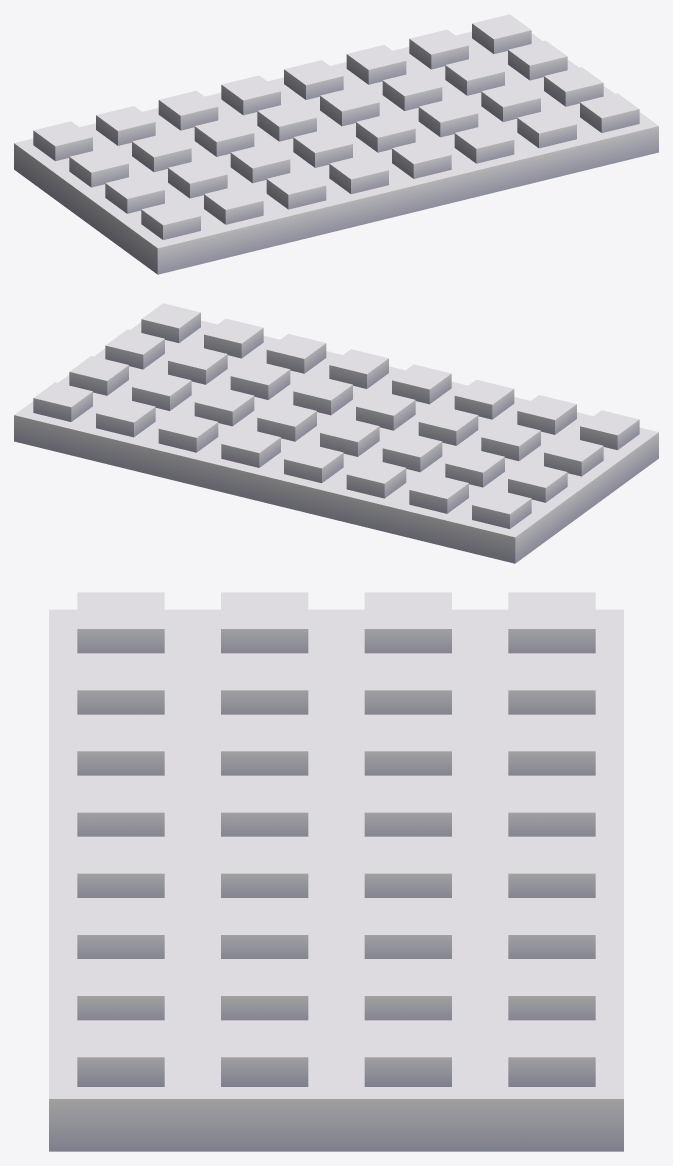
File: kenney-brick-square-lq-plate-4-x-8.glb
The picture shows the model from 3 angles, top to bottom: view 1: azimuth 30°, elevation 25°; view 2: azimuth 150°, elevation 25°; view 3: azimuth 270°, elevation 25°; orthographic projection. The views are drawn at different scales.
Visible parts, largest first — view 1: square-lq-plate-4x8; view 2: square-lq-plate-4x8; view 3: square-lq-plate-4x8.
Part boxes in pixels (x1,y1,x2,y2): square-lq-plate-4x8: (14,14,658,274); square-lq-plate-4x8: (14,303,658,563); square-lq-plate-4x8: (49,592,623,1151).
Bounding box in the file's own units: 0.636 × 0.05 × 0.316.
1 material, 1 textured.
